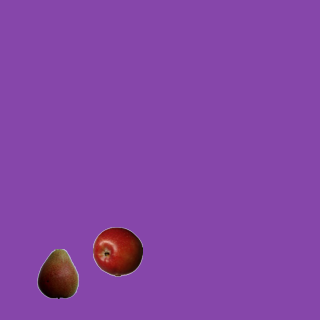Apple Braeburn: (92, 226, 142, 276)
Pear Forelle: (32, 248, 82, 298)
